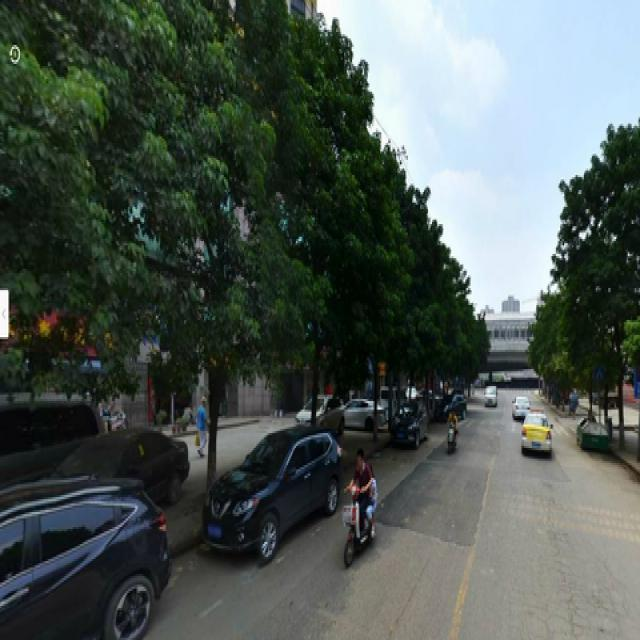cinn: (128, 21, 283, 478), (297, 66, 364, 427)
